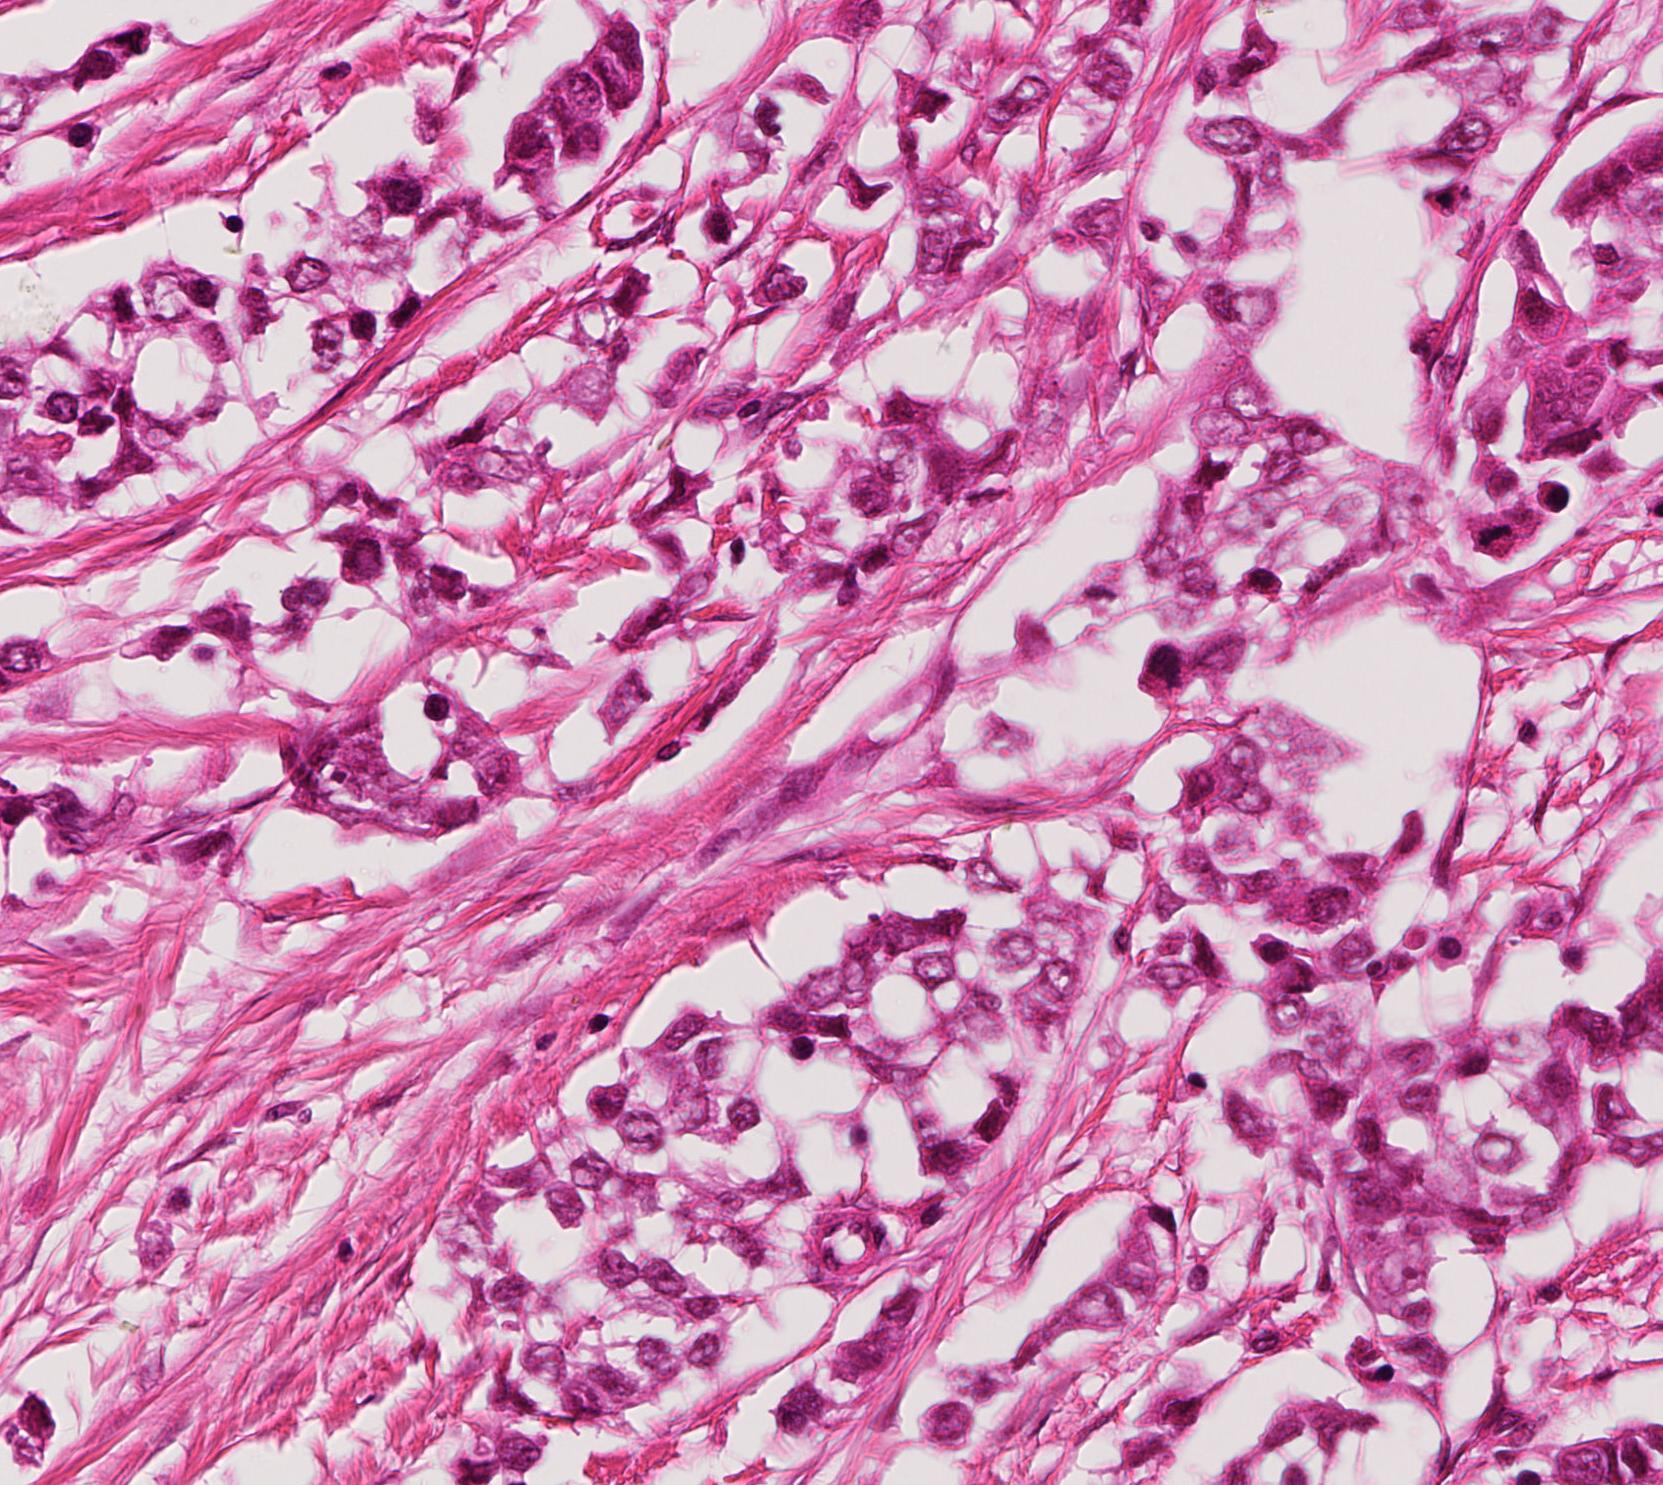mitosis: (1459, 507, 1520, 568), (1125, 636, 1186, 697), (1244, 935, 1305, 993)
